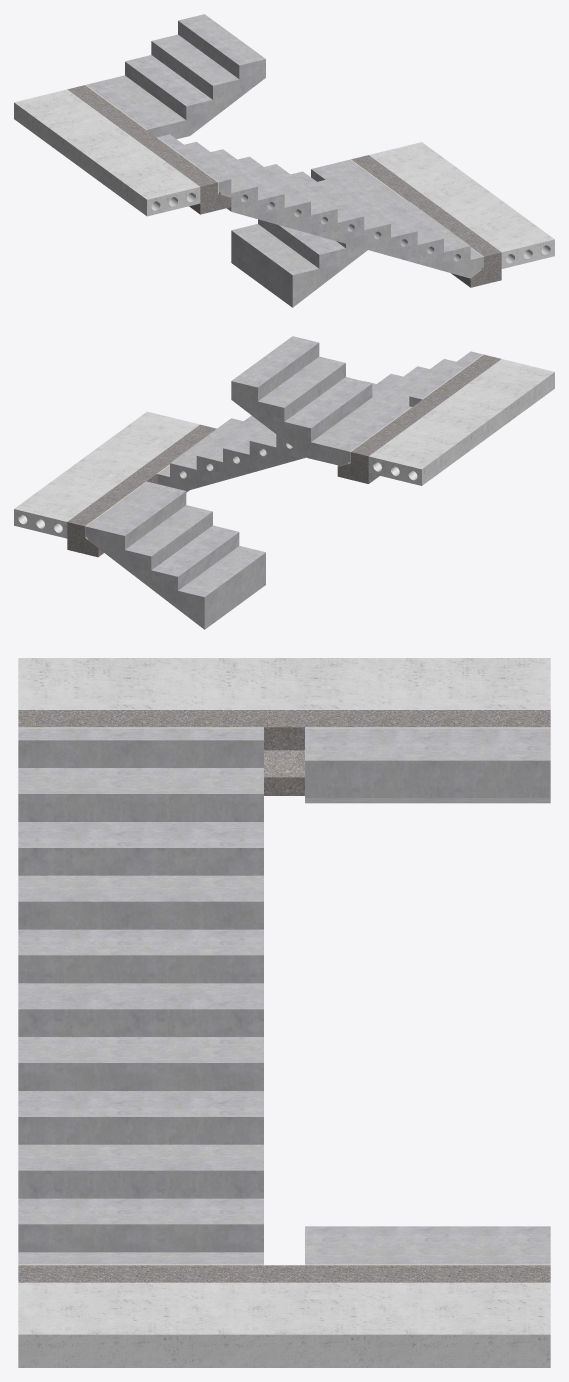
File: stair-flight-offset-one-01-v2.glb
The picture shows the model from 3 angles, top to bottom: view 1: azimuth 30°, elevation 25°; view 2: azimuth 150°, elevation 25°; view 3: azimuth 270°, elevation 25°; orthographic projection. The views are drawn at different scales.
Parts seen in each view (by area): view 1: 梯段, 上平台板, 下平台板, 上平台梁-斜肩L形承托, 下平台梁-斜肩L形承托, 无需标注; view 2: 梯段, 上平台板, 下平台板, 上平台梁-斜肩L形承托, 下平台梁-斜肩L形承托, 无需标注; view 3: 梯段, 下平台板, 上平台板, 上平台梁-斜肩L形承托, 下平台梁-斜肩L形承托, 无需标注.
Part boxes in pixels (<box>): 梯段: <box>86,14,482,307</box>; 上平台板: <box>14,89,200,216</box>; 下平台板: <box>369,142,554,268</box>; 上平台梁-斜肩L形承托: <box>67,85,231,214</box>; 下平台梁-斜肩L形承托: <box>351,155,501,287</box>; 无需标注: <box>85,85,483,278</box>; 梯段: <box>85,336,482,629</box>; 上平台板: <box>368,359,554,485</box>; 下平台板: <box>14,411,199,538</box>; 上平台梁-斜肩L形承托: <box>337,354,500,483</box>; 下平台梁-斜肩L形承托: <box>67,424,216,557</box>; 无需标注: <box>85,354,483,547</box>; 梯段: <box>18,728,550,1264</box>; 下平台板: <box>18,1282,550,1367</box>; 上平台板: <box>18,658,550,709</box>; 上平台梁-斜肩L形承托: <box>18,710,550,795</box>; 下平台梁-斜肩L形承托: <box>18,1265,550,1282</box>; 无需标注: <box>18,727,550,1265</box>.
Size of the model in its own units: 4.6 by 2.75 by 2.6.
7 materials, 5 textured.
